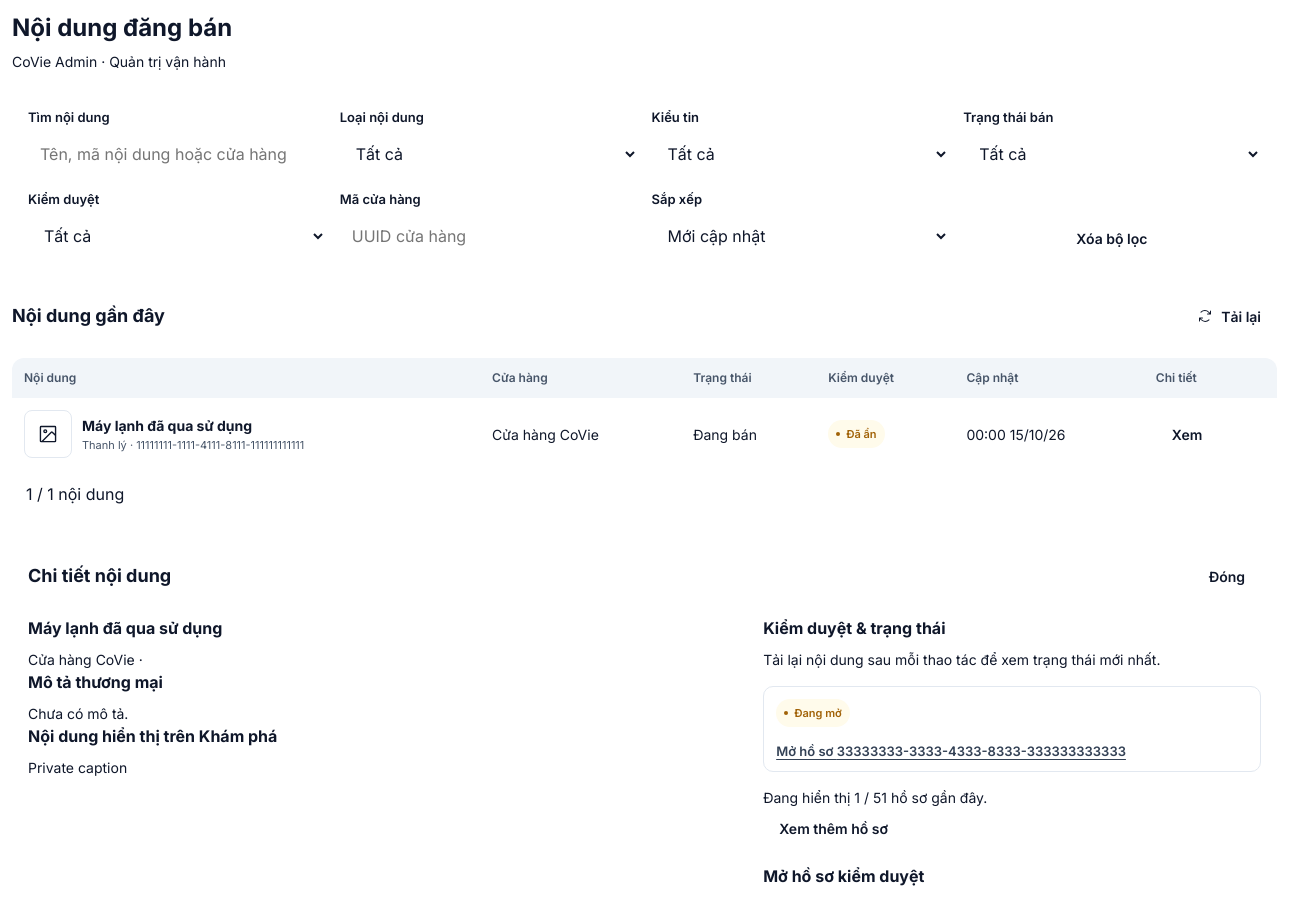
Admin catalog screen › clears the entire private catalog after case history denies access with 401
The image size is (1292, 912).
Expected: the text "Private caption" is shown, 28,759 -> 127,776
Expected: the button with aria-label "Xem Máy lạnh đã qua sử dụng" is shown, 1156,412 -> 1218,456
What coordinates should you click on to do the following:
click the button "Xem thêm hồ sơ"
I would click on:
 (834, 828)
Its box is 763,808 -> 904,848.
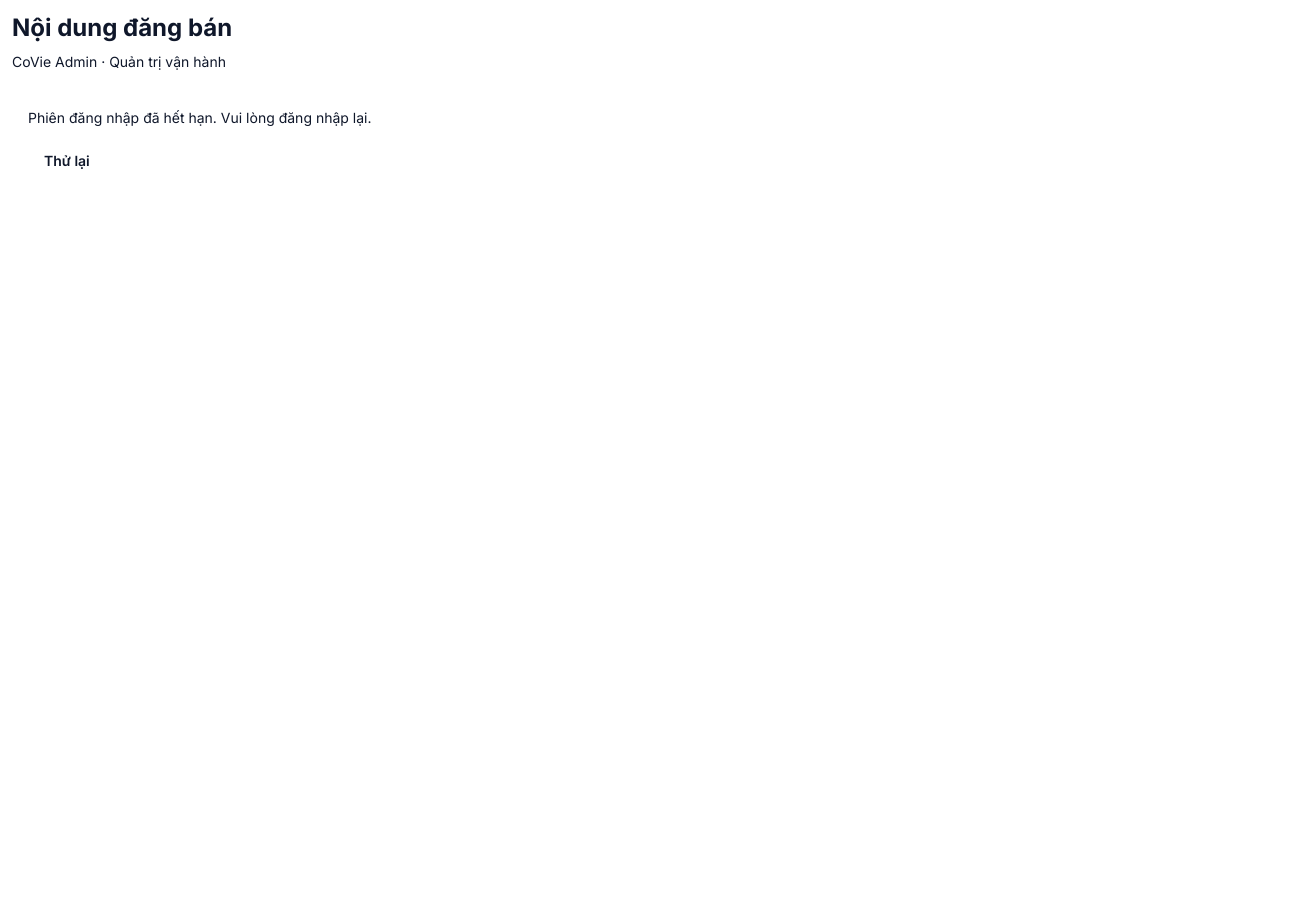
Result: the message "Phiên đăng nhập đã hết hạn. Vui lòng đăng nhập lại." is shown at 28,109 -> 372,126
Result: the table is gone
Result: the text "Private caption" is gone
